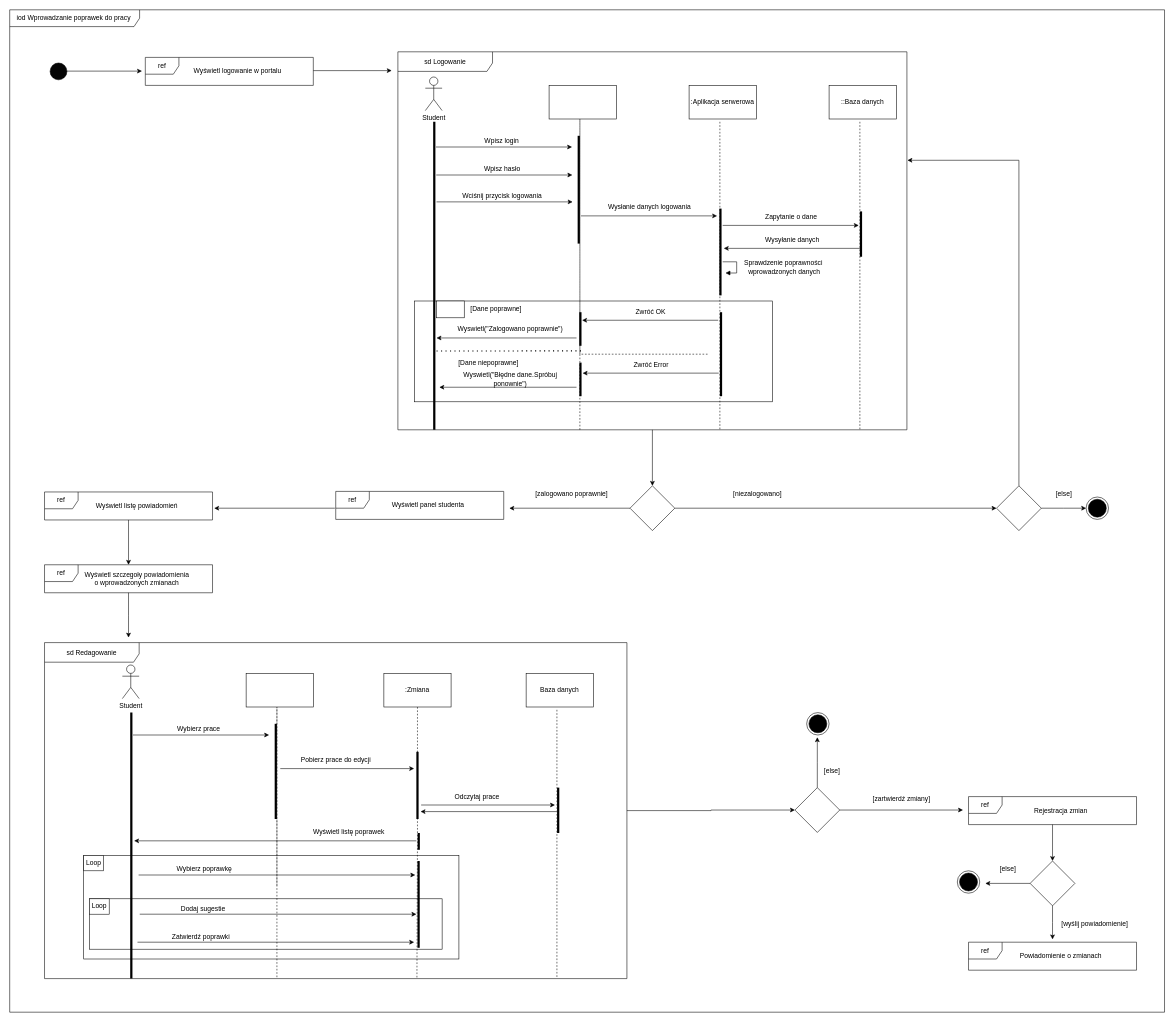
Some shapes in this 1175 by 1022 pixel diagram are drawn without their labels. The shapes that lost their labels are listed below. From the top down, each one's centre as x and y in pixels, then its label:
At point 582,102: ":Strona Logowania".
At point 450,309: "Alt".
At point 279,690: ":Menu prac".
